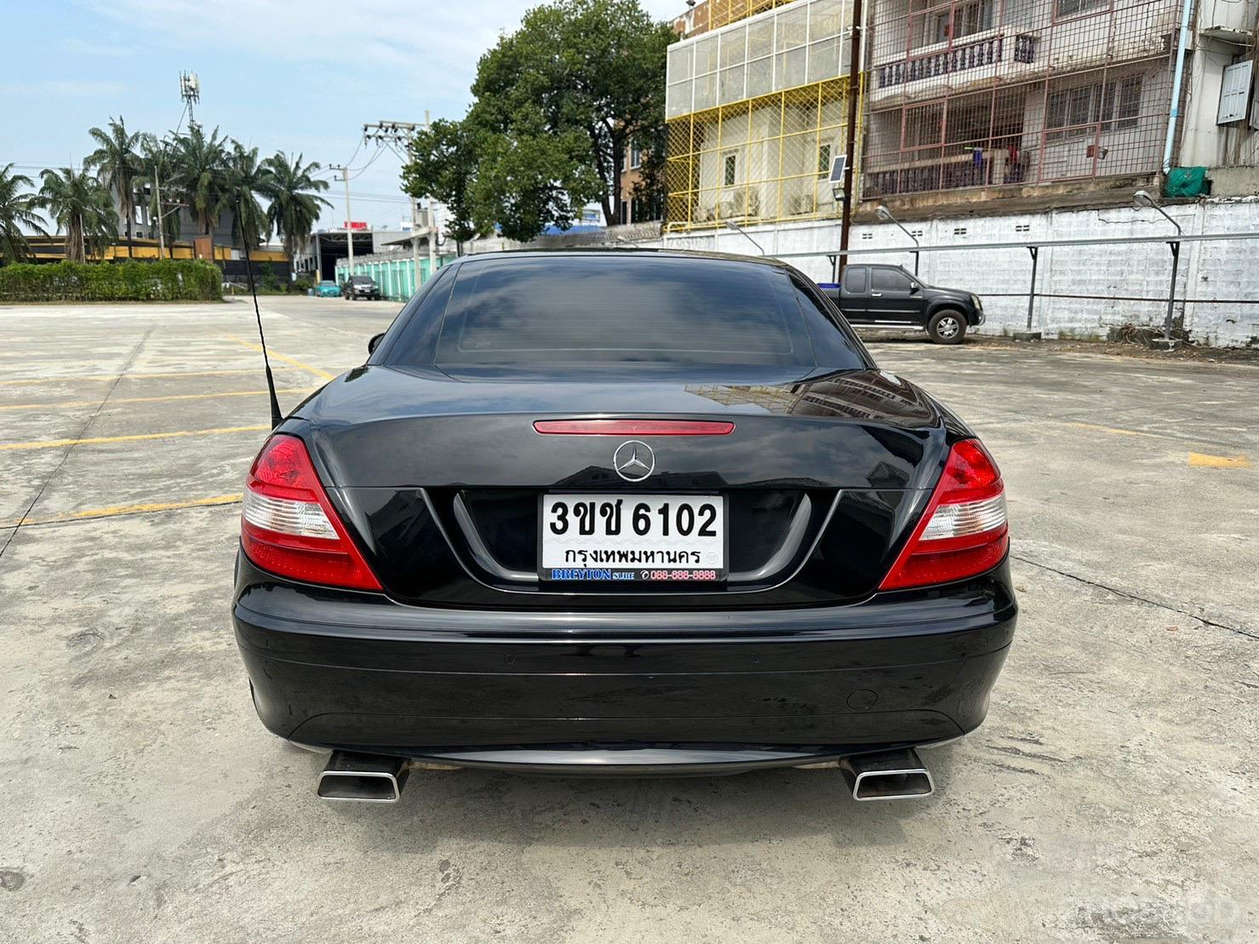license-plate: (534, 488, 729, 594)
